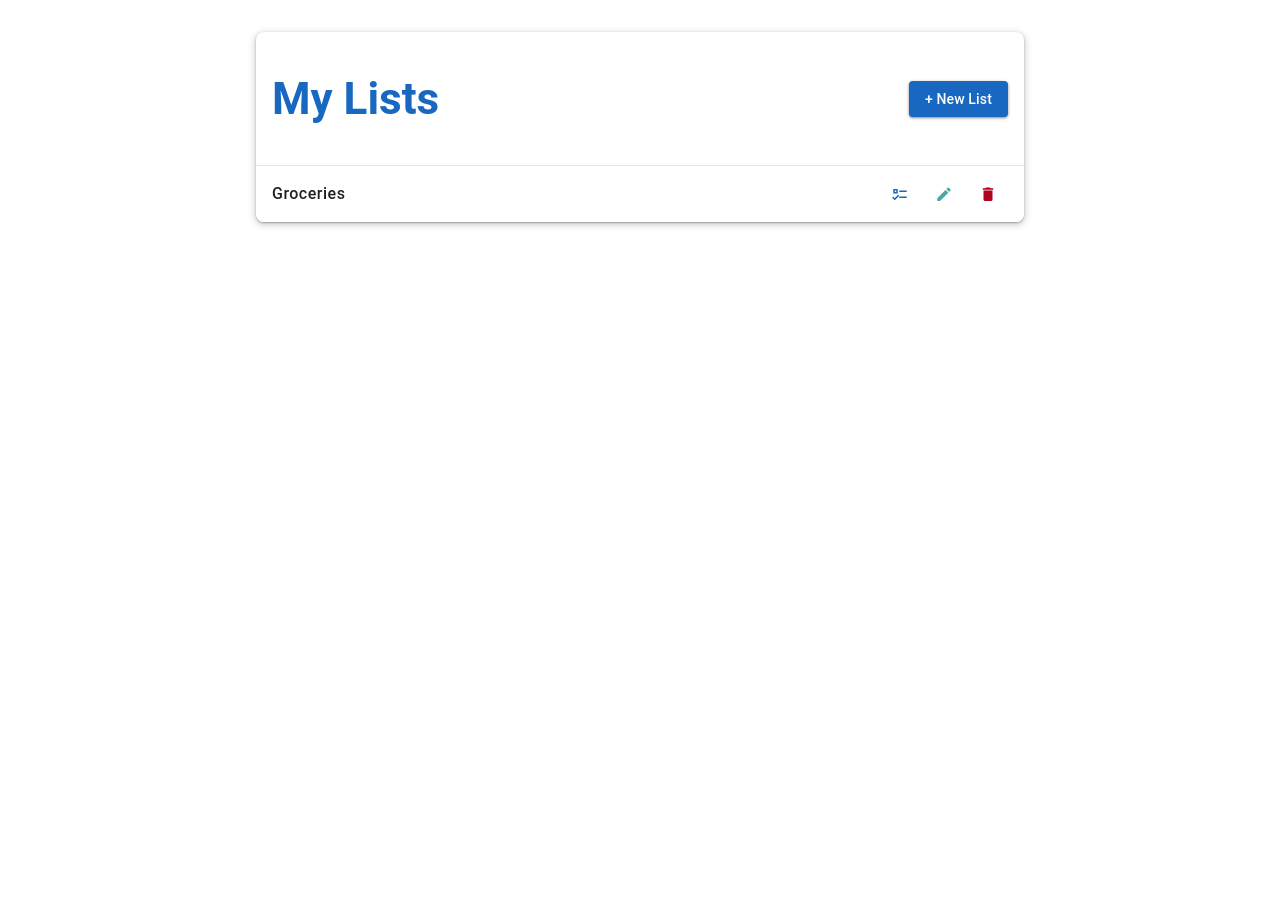
Test: Feature 3 — Todo List Item Management › US-3.1 — Add tasks to a list › User adds a todo to a list via dialog
This screenshot has width=1280, height=900.
Click the button named "Items" at [900, 194], box [880, 174, 920, 214]
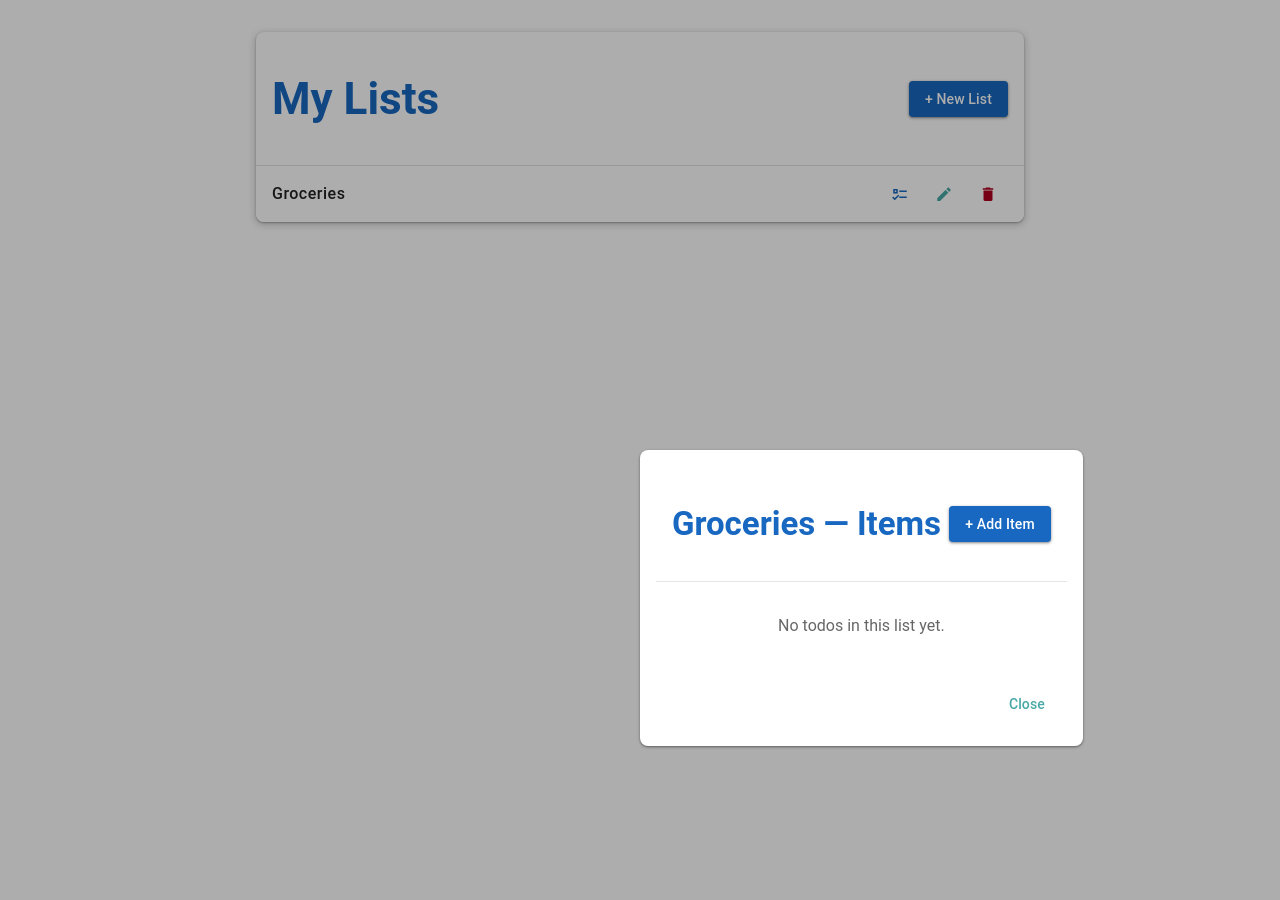
Expected: the button "+ Add Item" is shown
Click the button "+ Add Item" at [1000, 524], box [949, 506, 1051, 542]
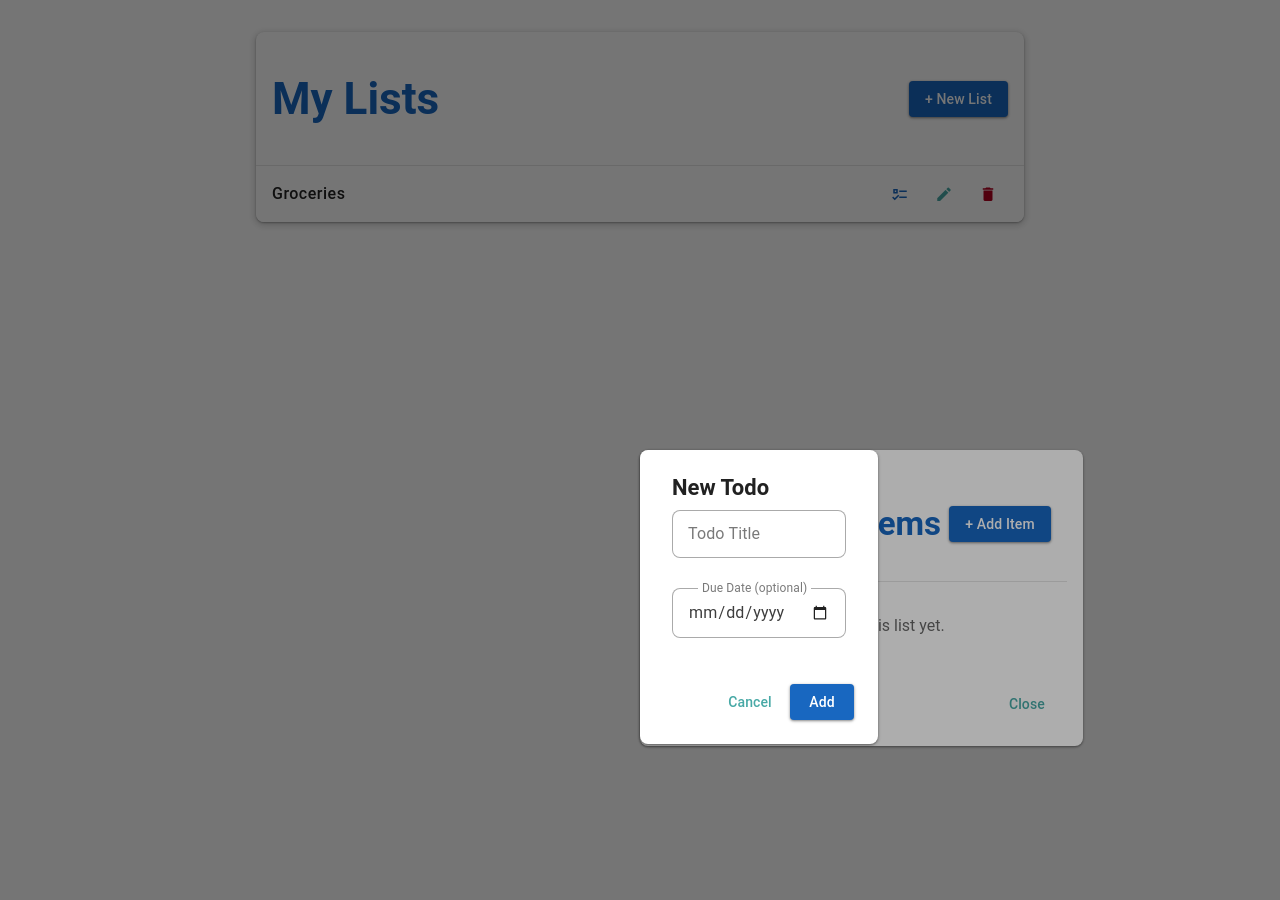
Expected: the 2nd dialog is shown
Type "Buy milk" into the field labelled "Todo Title" at [759, 534], box [672, 510, 846, 558]
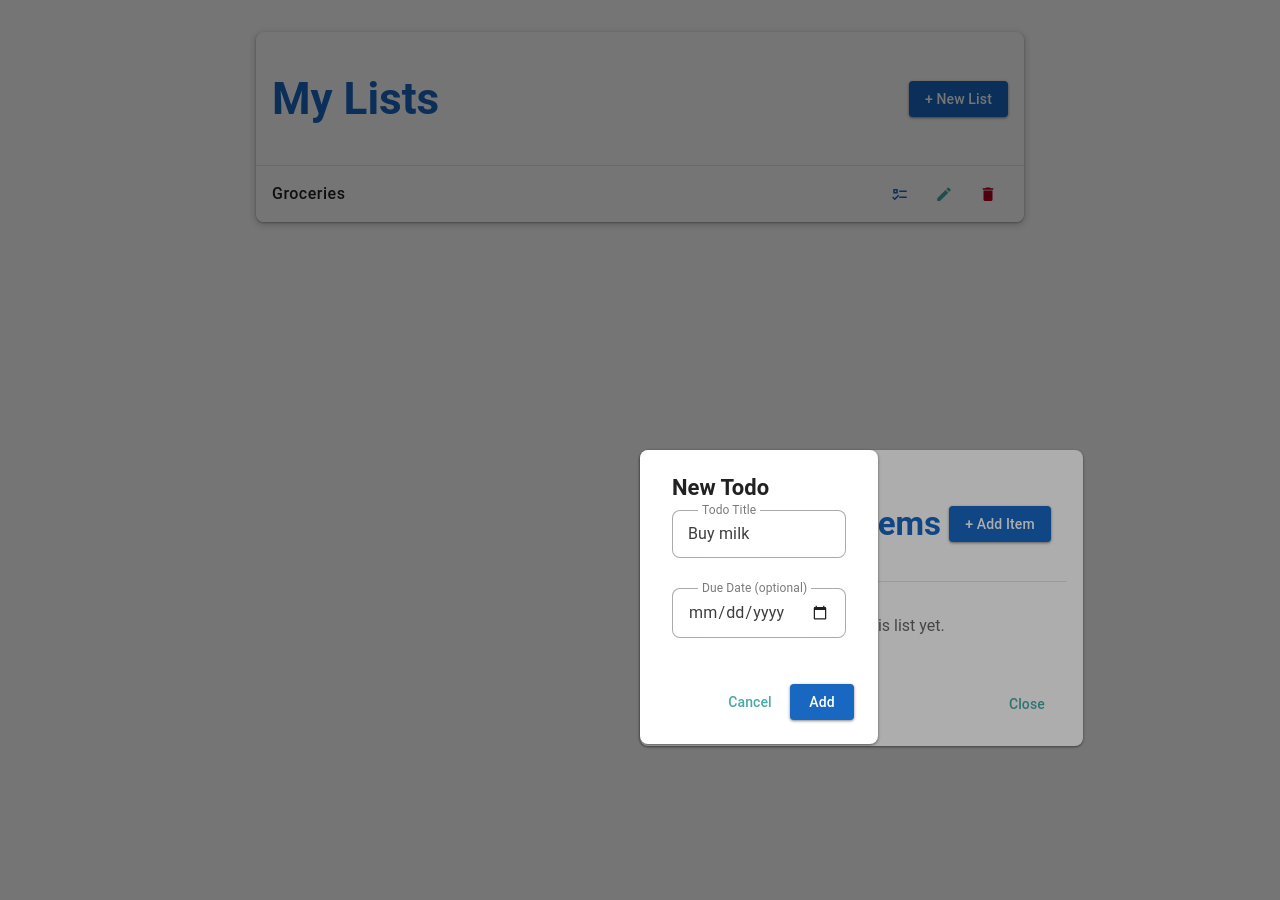
Expected: the button "Add" is shown
Click the button "Add" at [822, 702], box [790, 684, 854, 720]
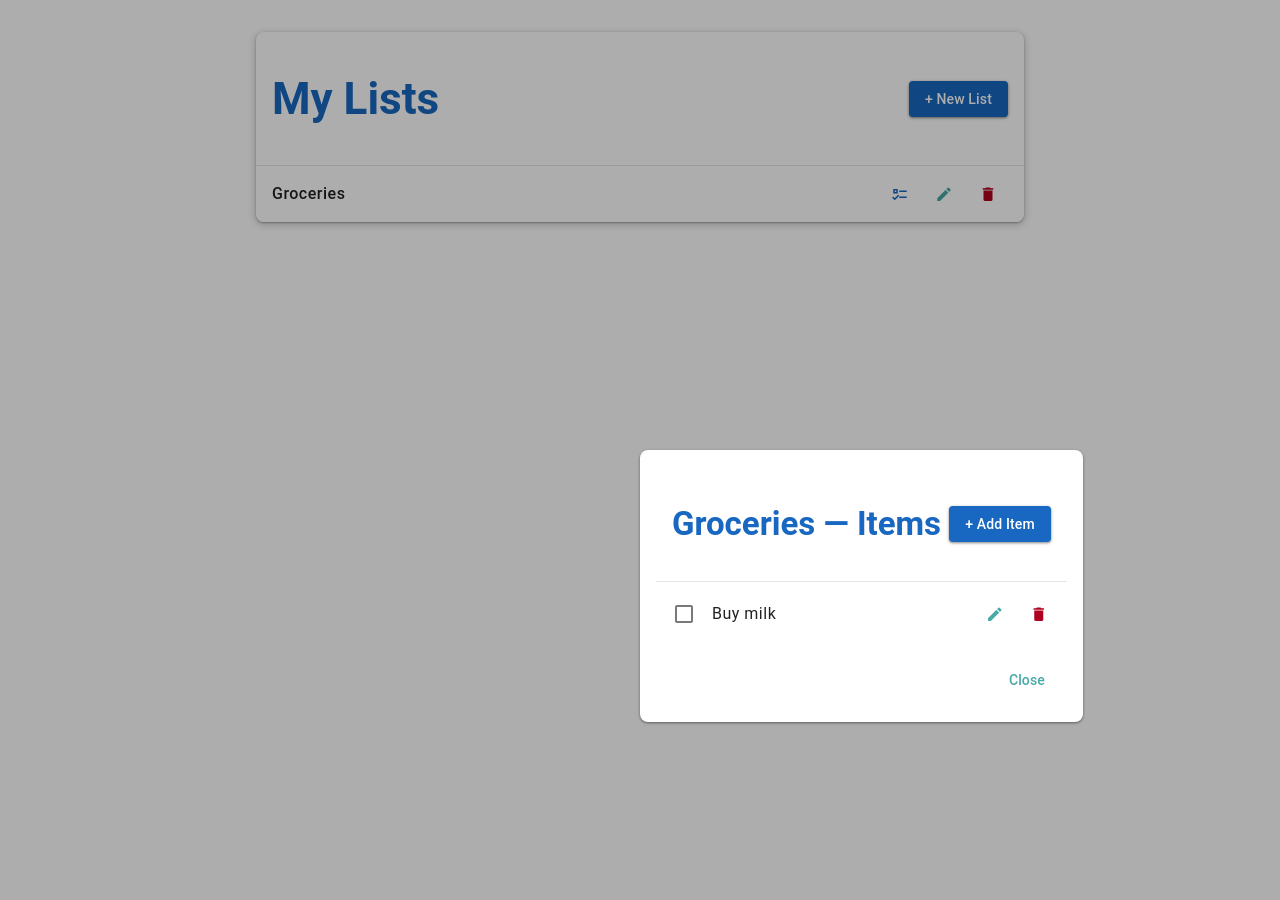
Expected: the text "Buy milk" is shown, [712, 604, 776, 623]
